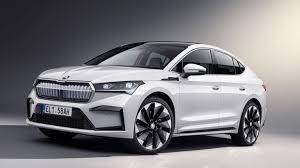skoda: (60, 74, 72, 81)
